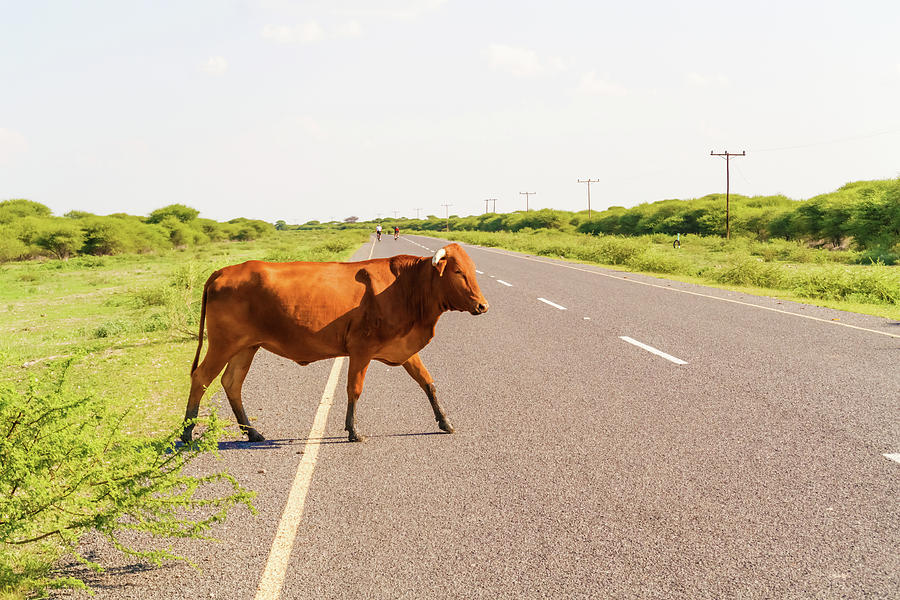inek: (172, 235, 500, 440)
